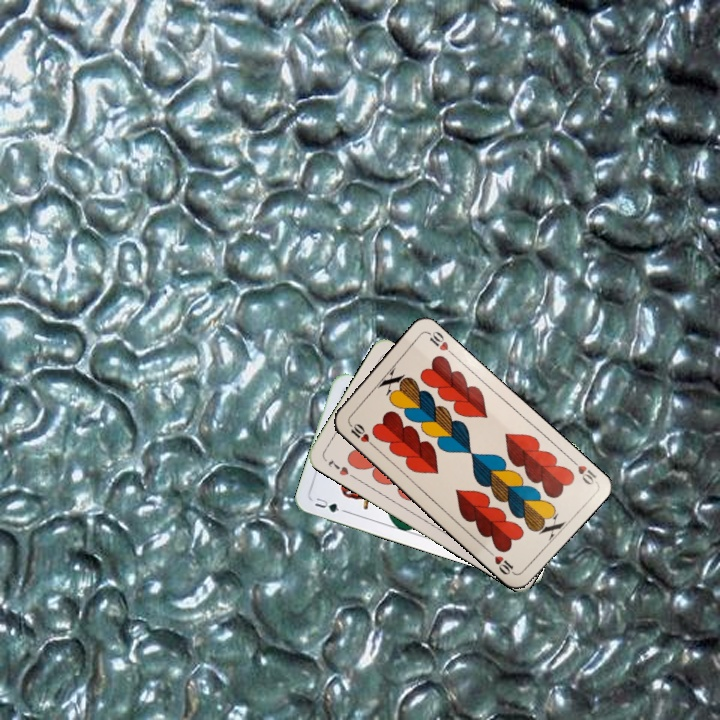GU: (311, 494, 342, 515)
H10: (566, 454, 599, 488), (344, 418, 377, 450)
H7: (324, 454, 358, 481)
